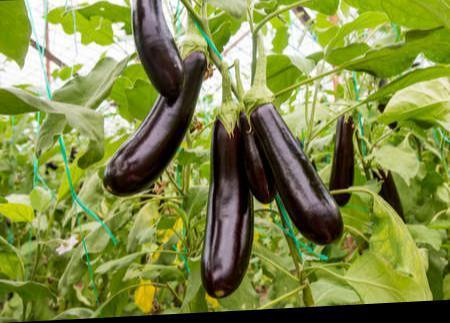eggplant: (159, 54, 376, 282)
